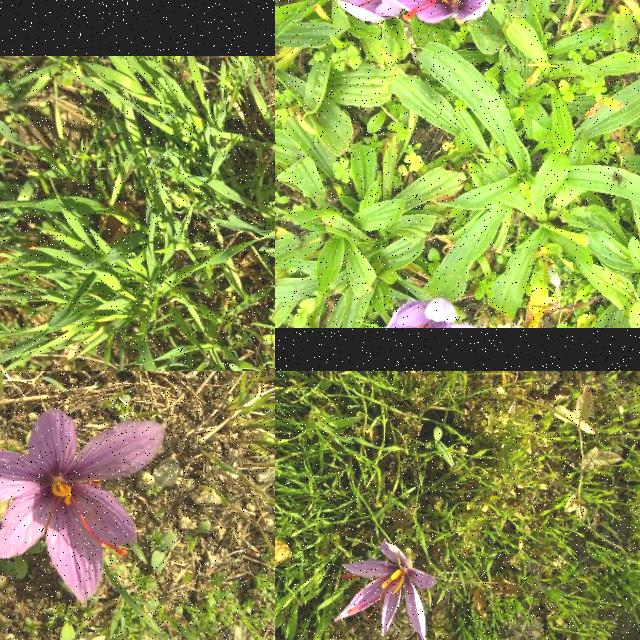flower: (0, 409, 165, 603), (336, 540, 438, 640), (386, 298, 478, 328), (379, 0, 492, 24), (331, 0, 411, 22)
